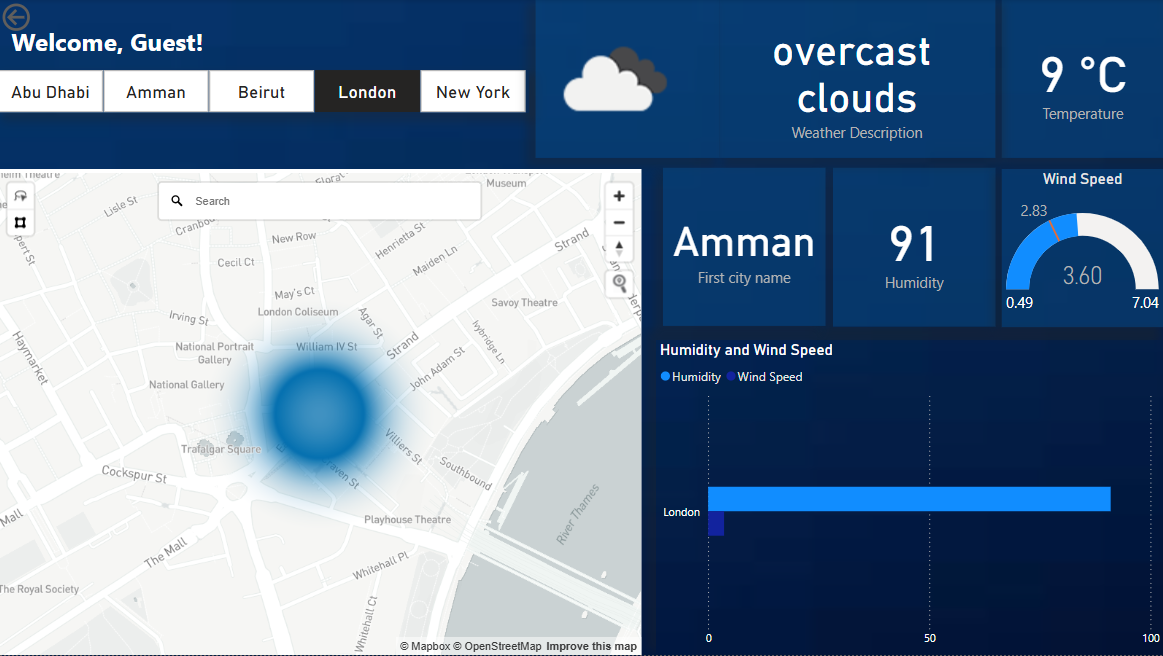

What the dashboard file says about the page in this screenshot:
{"tool":"powerbi","page":{"name":"Page 1","canvas":[1280,720],"ordinal":0},"visuals":[{"type":"card","fields":{"Values":["Sum(Append2.humidity)"]},"box":[916.6,185.2,178.4,174.3],"z":0},{"type":"card","fields":{"Values":["Min(current weather.temperature unit)"]},"box":[1101.4,0,178.6,174.3],"z":1000},{"type":"advancedSlicerVisual","title":"choice a city:","fields":{"Values":["current weather.city name"]},"box":[0,78.2,583.2,46.7],"z":2000},{"type":"card","fields":{"Values":["Min(Append2.weather description)"]},"box":[791.4,0,302.9,174.3],"z":3000},{"type":"gauge","title":"Wind Speed","fields":{"Y":["Avg(current weather.wind speed)"],"MaxValue":["Max(5 days weathers.wind speed)"],"MinValue":["Min(5 days weathers.wind speed)"],"TargetValue":["Avg(5 days weathers.wind speed)1"]},"box":[1101.2,186.2,177.5,173.8],"z":4000},{"type":"simpleImageEBC4593F96F1425FB3D84C5BF02B5075","fields":{"imageURL":["current weather.icon url"]},"box":[590.1,0,201.7,174.3],"z":5000},{"type":"clusteredBarChart","title":"Humidity and Wind Speed","fields":{"Category":["current weather.city name"],"Y":["Avg(current weather.humidity)","Sum(current weather.wind speed)"]},"box":[721.4,374.3,558.6,345.7],"z":6000},{"type":"card","fields":{"Values":["Min(5 days weathers.city name)"]},"box":[730,185.8,178.6,173.7],"z":7000},{"type":"PBI_CV_EB3A4088_75C5_4746_9D8B_255A7B7ECD6D","fields":{"location":["current weather.city name"],"longitude":["current weather.coord.lon"],"latitude":["current weather.coord.lat"],"color":["Max(current weather.temperature)"]},"box":[0,186.6,706.7,533.8],"z":8000},{"type":"textbox","box":[9.6,23.3,229.2,54.9],"z":9000},{"type":"actionButton","box":[0,0,100,40],"z":10000}]}

Visuals, with their boxes in screenshot pixels (x1, y1, x2, y2), scaled from the page's 1280x720 canvas onto the 1163x656 screenshot:
card - Sum(Append2.humidity): bbox=(833, 169, 995, 328)
card - Min(current weather.temperature unit): bbox=(1001, 0, 1162, 159)
"choice a city:" advancedSlicerVisual: bbox=(0, 71, 530, 114)
card - Min(Append2.weather description): bbox=(719, 0, 994, 159)
"Wind Speed" gauge: bbox=(1001, 170, 1162, 328)
simpleImageEBC4593F96F1425FB3D84C5BF02B5075 - current weather.icon url: bbox=(536, 0, 719, 159)
"Humidity and Wind Speed" clusteredBarChart: bbox=(655, 341, 1162, 655)
card - Min(5 days weathers.city name): bbox=(663, 169, 826, 328)
PBI_CV_EB3A4088_75C5_4746_9D8B_255A7B7ECD6D - current weather.city name x current weather.coord.lon: bbox=(0, 170, 642, 655)
textbox: bbox=(9, 21, 217, 71)
actionButton: bbox=(0, 0, 91, 36)
